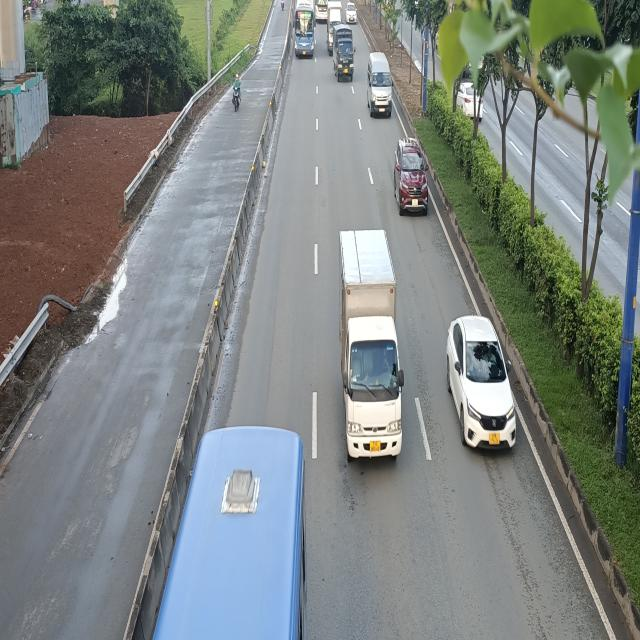car: (448, 314, 517, 450), (395, 136, 430, 213)
coach: (152, 428, 306, 640), (292, 0, 316, 56)
truck: (338, 230, 403, 460), (334, 24, 356, 81)
van: (365, 52, 393, 117)
